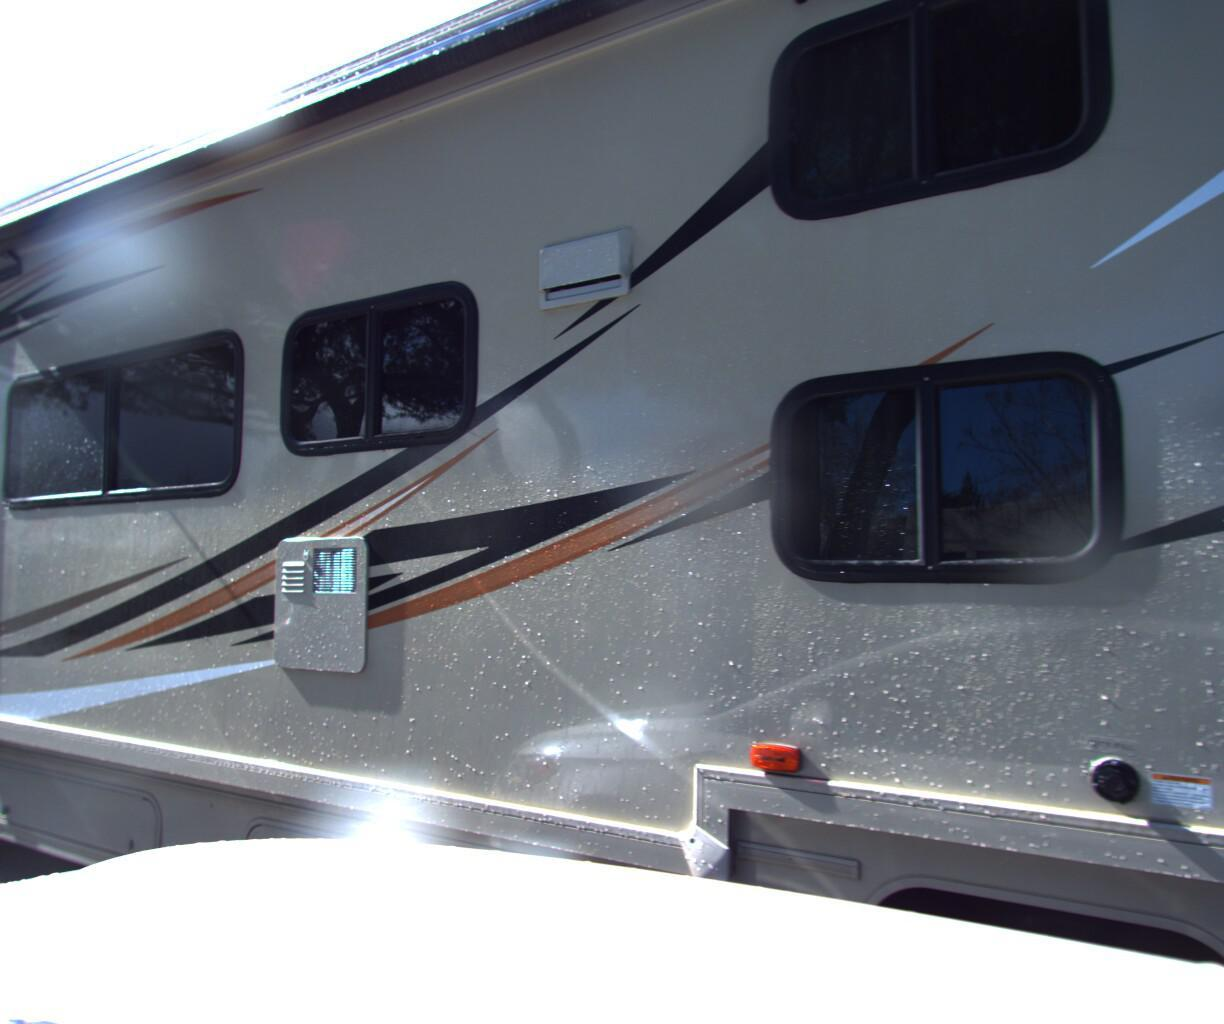car: (0, 552, 6, 776)
